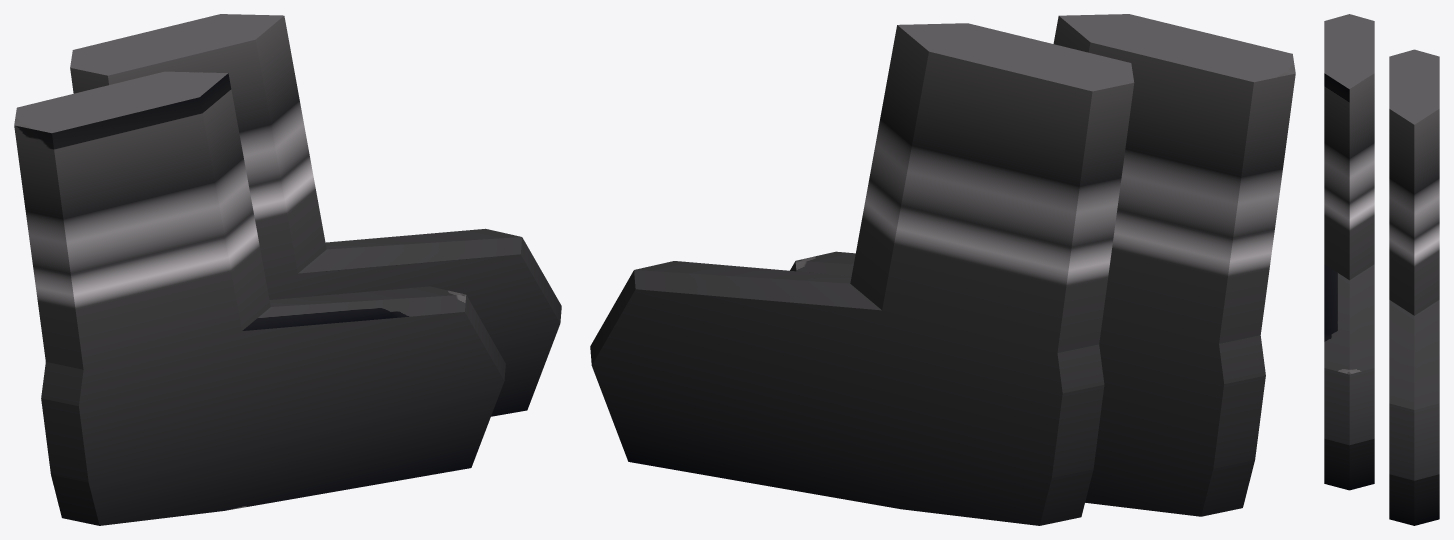
The model's file is Socks.glb.
3 views of the same model, side by side, from view 1: azimuth 30°, elevation 25°; view 2: azimuth 150°, elevation 25°; view 3: azimuth 270°, elevation 25° (orthographic). The views are drawn at different scales.
Parts seen in each view (by area): view 1: Plane, Plane.001; view 2: Plane.001, Plane; view 3: Plane, Plane.001.
Boxes of the visible parts, x1=… form: Plane: x1=14, y1=71, x2=505, y2=525; Plane.001: x1=70, y1=14, x2=561, y2=416; Plane.001: x1=590, y1=23, x2=1134, y2=525; Plane: x1=790, y1=14, x2=1295, y2=516; Plane: x1=1324, y1=14, x2=1374, y2=490; Plane.001: x1=1389, y1=49, x2=1439, y2=525.
Bounding box in the file's own units: 1.61 × 1.14 × 0.3772.
1 material, 1 textured.
